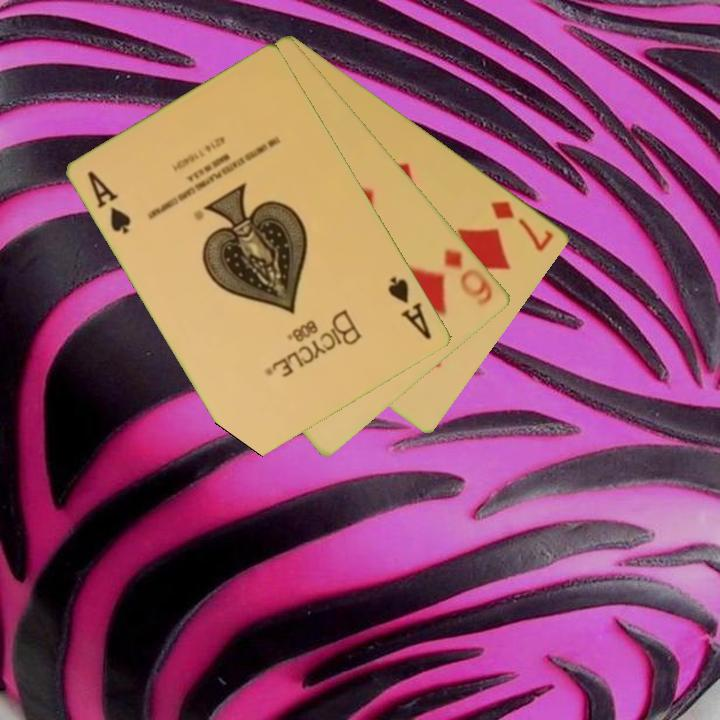6d: (441, 245, 497, 309)
7d: (487, 197, 557, 254)
As: (84, 167, 135, 237), (385, 272, 435, 343)
